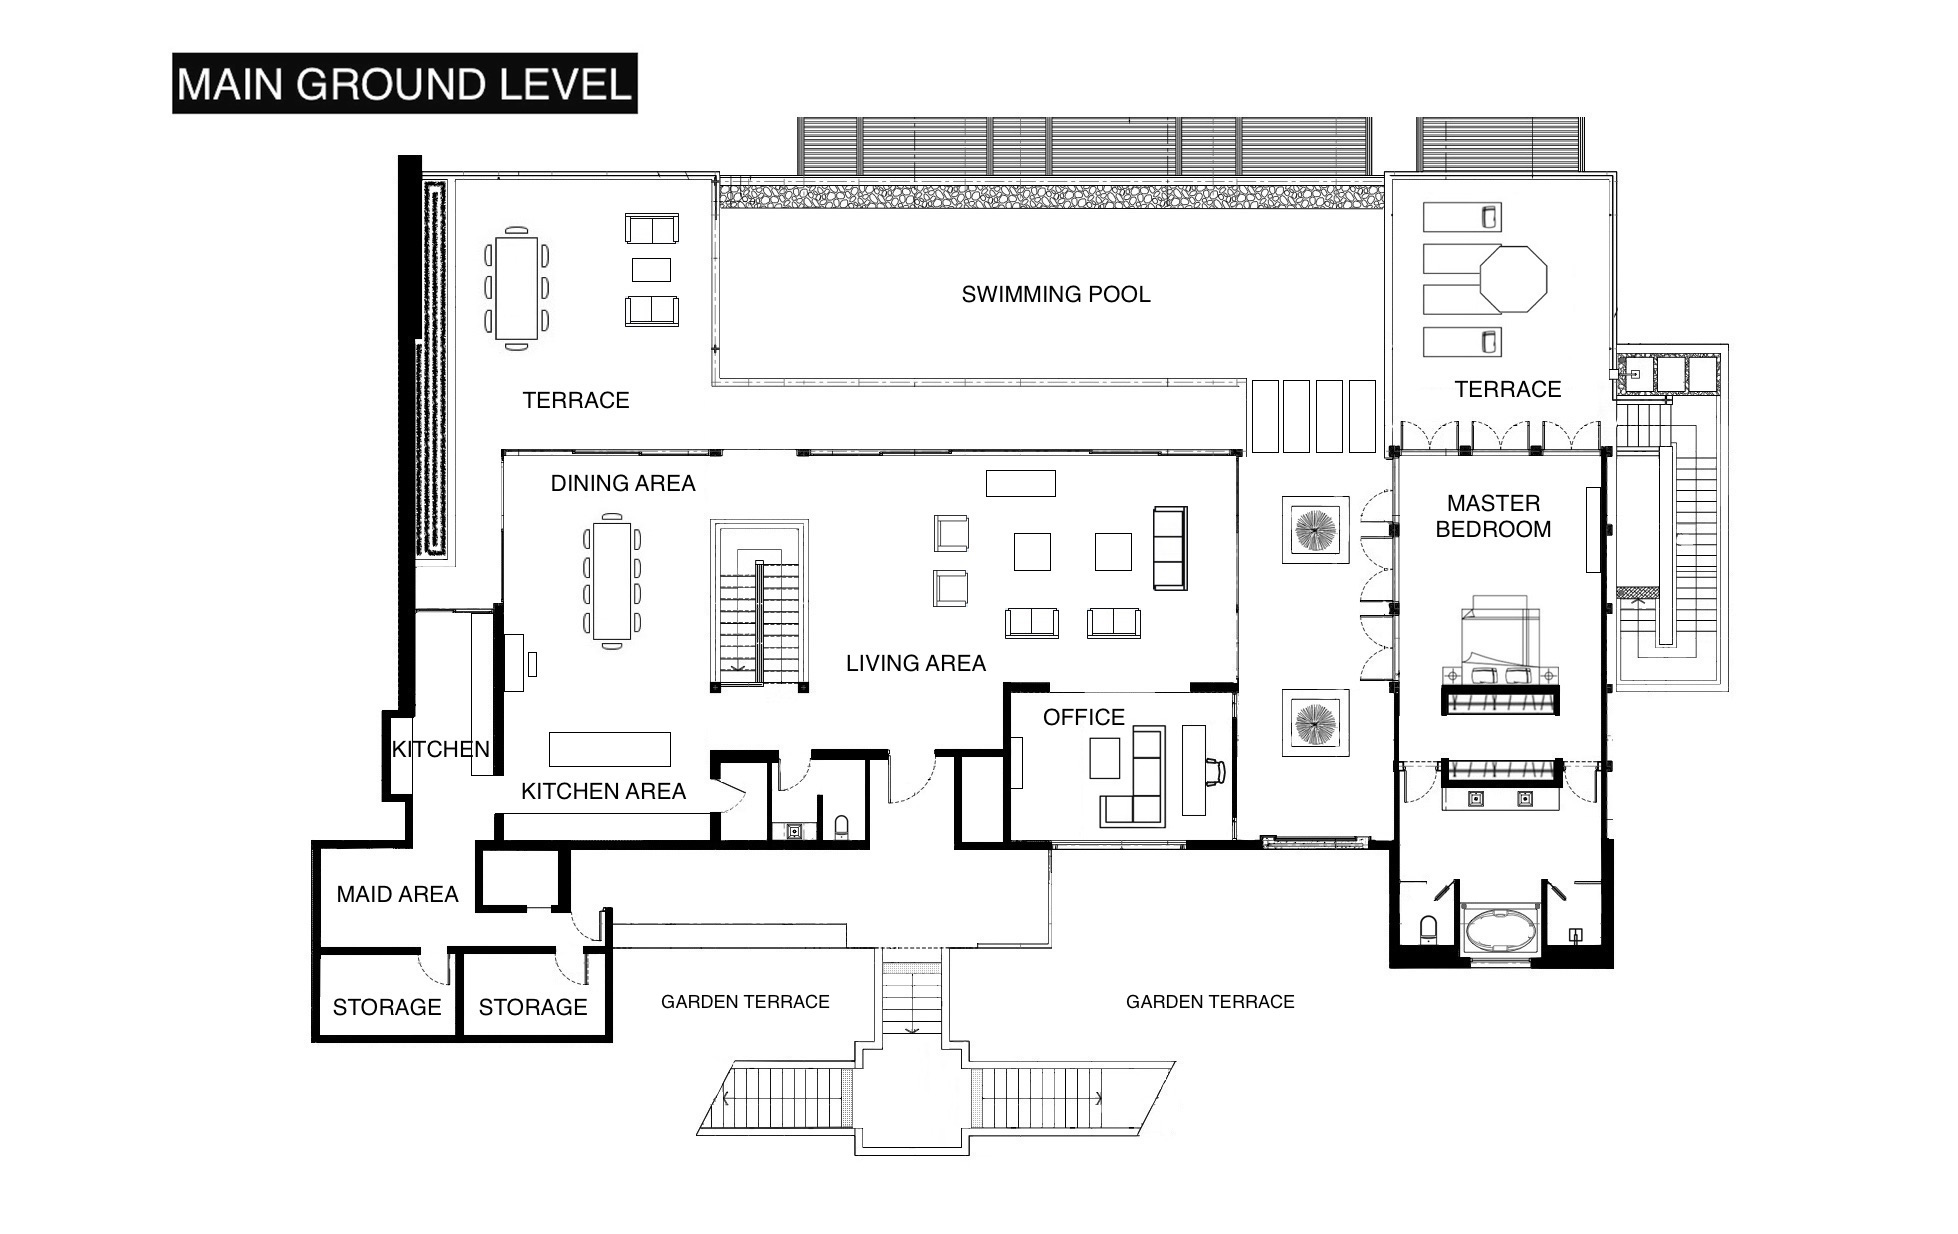room: (502, 439, 1239, 697), (1388, 442, 1616, 965), (1000, 682, 1239, 853), (450, 944, 612, 1043), (305, 945, 460, 1045)
